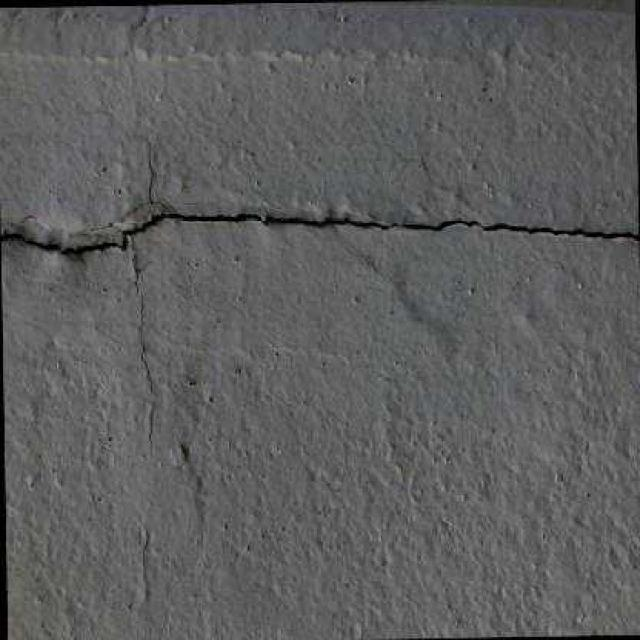D00: (0, 209, 639, 256)
